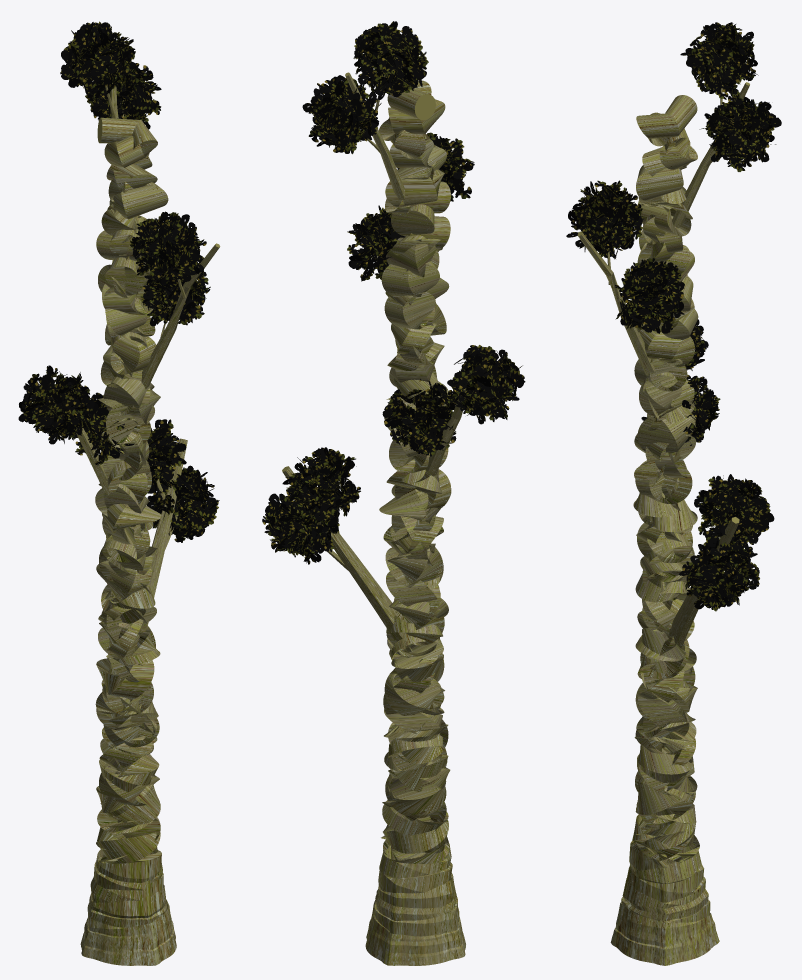
Rendered from deadwood_snag_v01.fbx.
The picture shows the model from 3 angles, left to right: view 1: azimuth 30°, elevation 25°; view 2: azimuth 150°, elevation 25°; view 3: azimuth 270°, elevation 25°; orthographic projection. The views are drawn at different scales.
Parts seen in each view (by area): view 1: deadwood_snag_v01; view 2: deadwood_snag_v01; view 3: deadwood_snag_v01.
Boxes of the visible parts, left/top/right/bottom form: deadwood_snag_v01: left=18, top=21, right=220, bottom=965; deadwood_snag_v01: left=262, top=21, right=525, bottom=965; deadwood_snag_v01: left=566, top=22, right=781, bottom=965.
Size of the model in its own units: 406 by 349 by 1570.
Materials: 2 (2 with a texture image).
